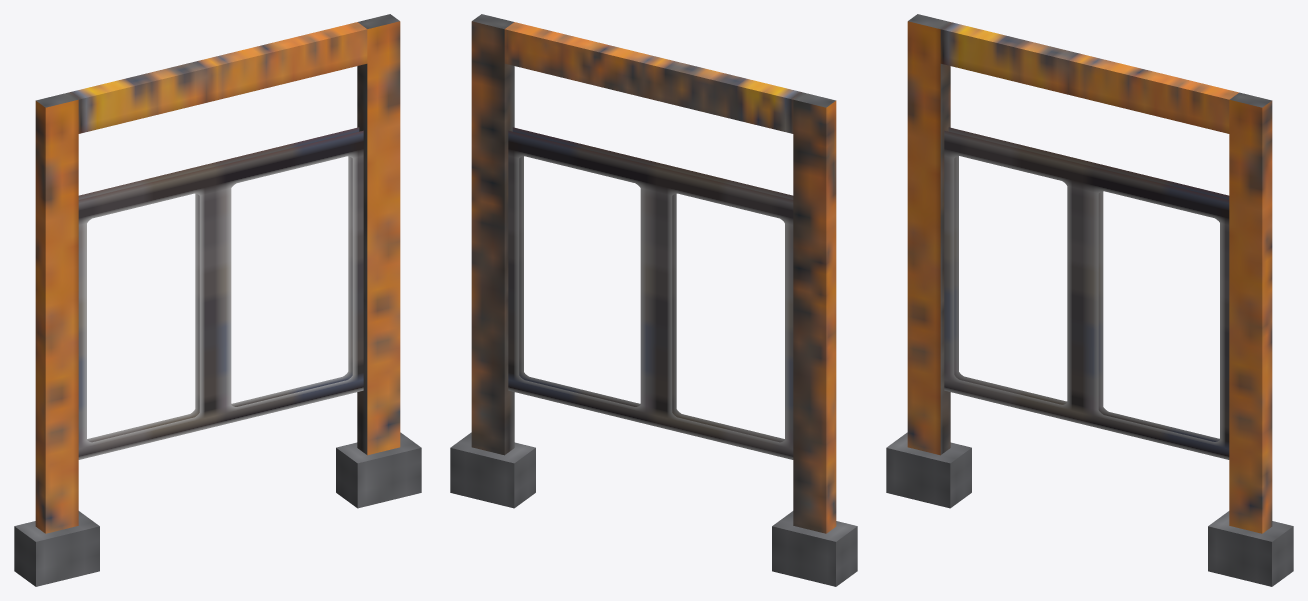
Rendered from MO_METAL_FENCE_02.fbx.
3 renders of one model, left to right at view 1: azimuth 30°, elevation 25°; view 2: azimuth 150°, elevation 25°; view 3: azimuth 330°, elevation 25°, orthographic.
Parts seen in each view (by area): view 1: MO_METAL_FENCE_02; view 2: MO_METAL_FENCE_02; view 3: MO_METAL_FENCE_02.
Boxes of the visible parts, x1,y1,x2,y2 form: MO_METAL_FENCE_02: [14, 14, 421, 586]; MO_METAL_FENCE_02: [450, 14, 857, 586]; MO_METAL_FENCE_02: [886, 14, 1293, 586].
Bounding box in the file's own units: 0.9 × 1.05 × 0.0872.
